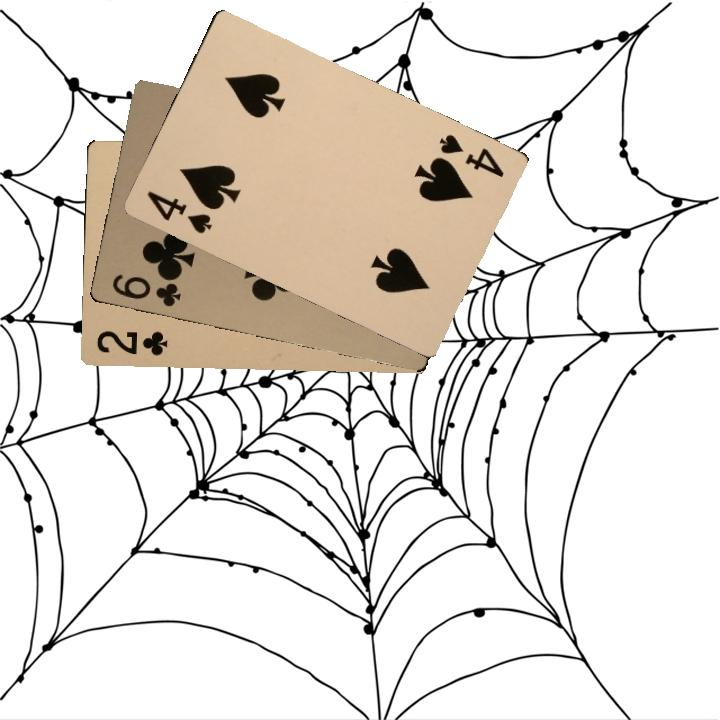2c: (92, 327, 170, 358)
4s: (434, 130, 507, 180), (143, 187, 215, 237)
6c: (108, 269, 184, 310)
